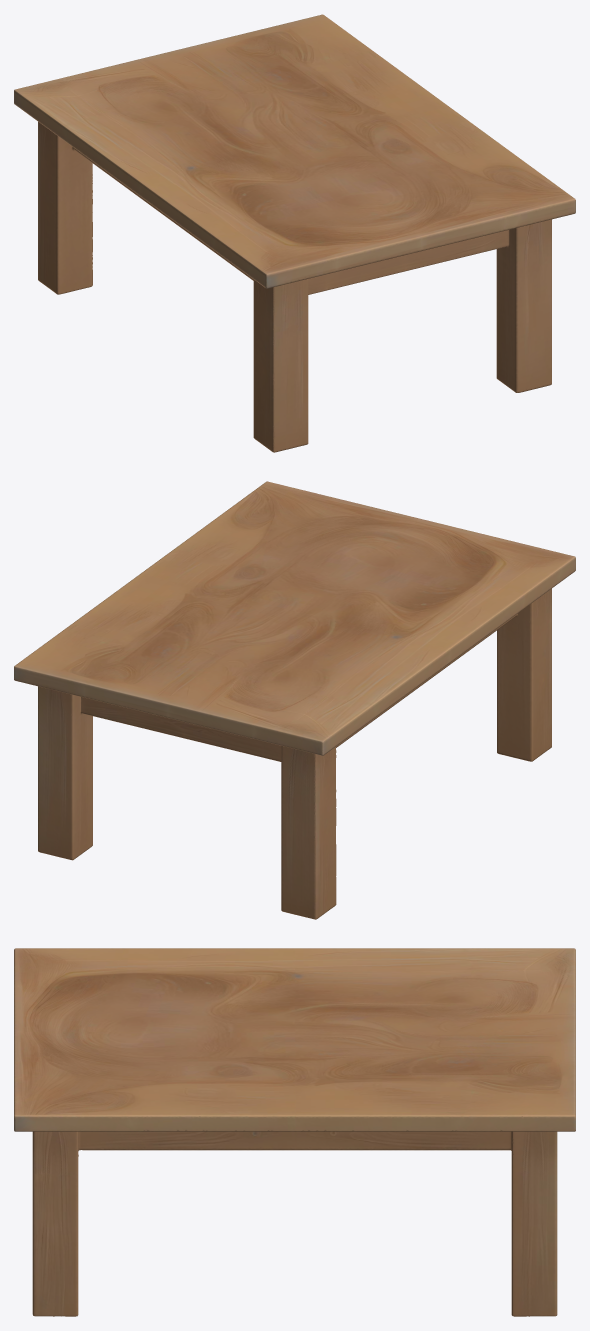
The model's file is detailed_realistic_model_largeoaktable_13.glb.
3 renders of one model, top to bottom at view 1: azimuth 30°, elevation 25°; view 2: azimuth 150°, elevation 25°; view 3: azimuth 270°, elevation 25°, orthographic. The views are drawn at different scales.
Parts seen in each view (by area): view 1: tripo_node_eb737fe0-3b13-4f31-bb6c-00c9d9239597; view 2: tripo_node_eb737fe0-3b13-4f31-bb6c-00c9d9239597; view 3: tripo_node_eb737fe0-3b13-4f31-bb6c-00c9d9239597.
Boxes of the visible parts, x1=… form: tripo_node_eb737fe0-3b13-4f31-bb6c-00c9d9239597: x1=14, y1=14, x2=575, y2=452; tripo_node_eb737fe0-3b13-4f31-bb6c-00c9d9239597: x1=14, y1=481, x2=575, y2=919; tripo_node_eb737fe0-3b13-4f31-bb6c-00c9d9239597: x1=14, y1=948, x2=575, y2=1316.
Size of the model in its own units: 0.7066 by 0.4153 by 1.
Materials: 1 (1 with a texture image).
